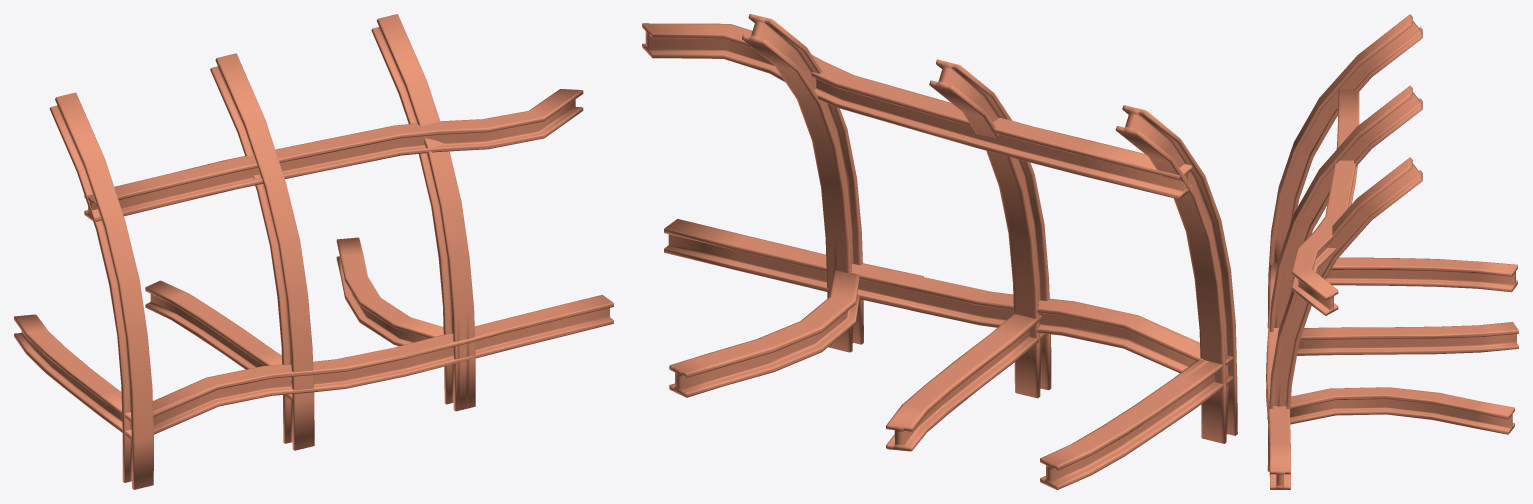
Rendered from Industrial_Ruin_Arch_Left_End.fbx.
3 views of the same model, side by side, from view 1: azimuth 30°, elevation 25°; view 2: azimuth 150°, elevation 25°; view 3: azimuth 270°, elevation 25° (orthographic). The views are drawn at different scales.
Parts seen in each view (by area): view 1: NurbsPath.009; view 2: NurbsPath.009; view 3: NurbsPath.009.
Boxes of the visible parts, left/top/right/bottom form: NurbsPath.009: left=14, top=14, right=613, bottom=489; NurbsPath.009: left=642, top=14, right=1237, bottom=489; NurbsPath.009: left=1266, top=14, right=1518, bottom=489.
Bounding box in the file's own units: 600 × 400 × 300.
